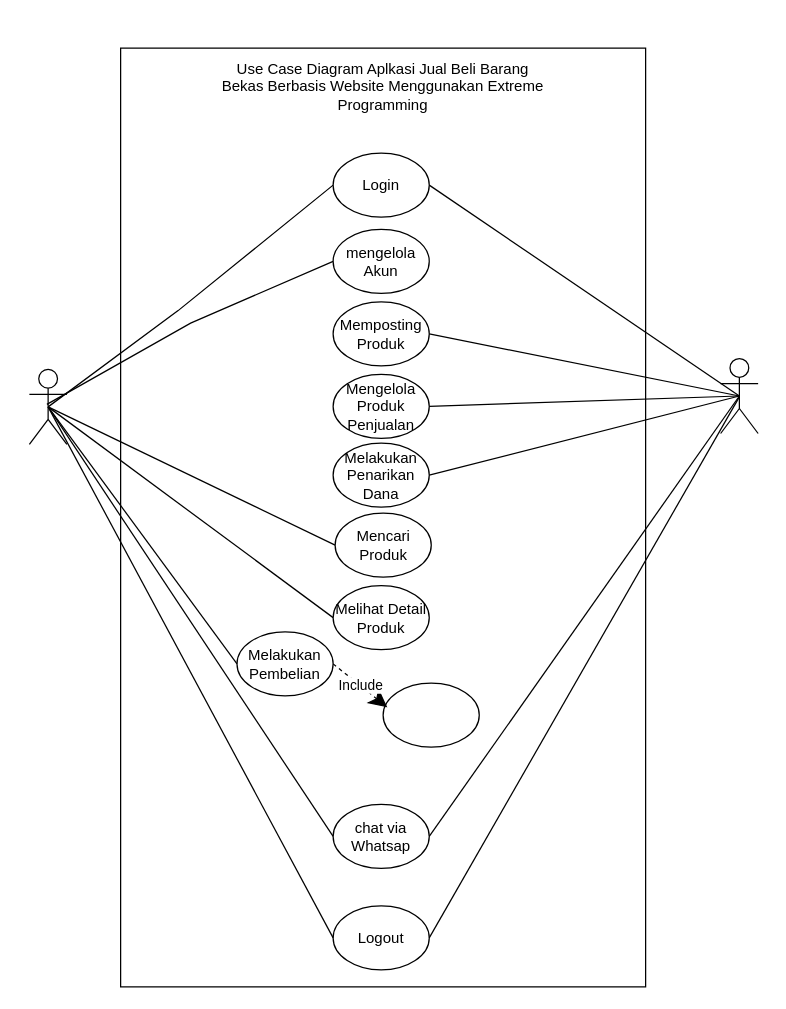
Image size: 786x1009. Some labels were removed from this diagram. Each missing label, with the box of its shape:
Memproses Pembayaran: (382, 682, 479, 747)
Pembeli: (28, 368, 67, 444)
Penjual: (719, 357, 758, 434)
